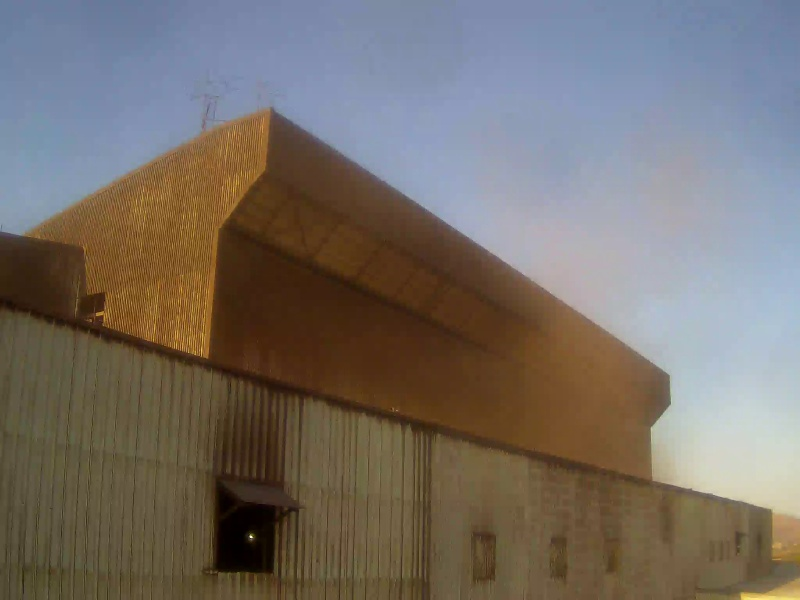Pessimo: (257, 105, 678, 474)
